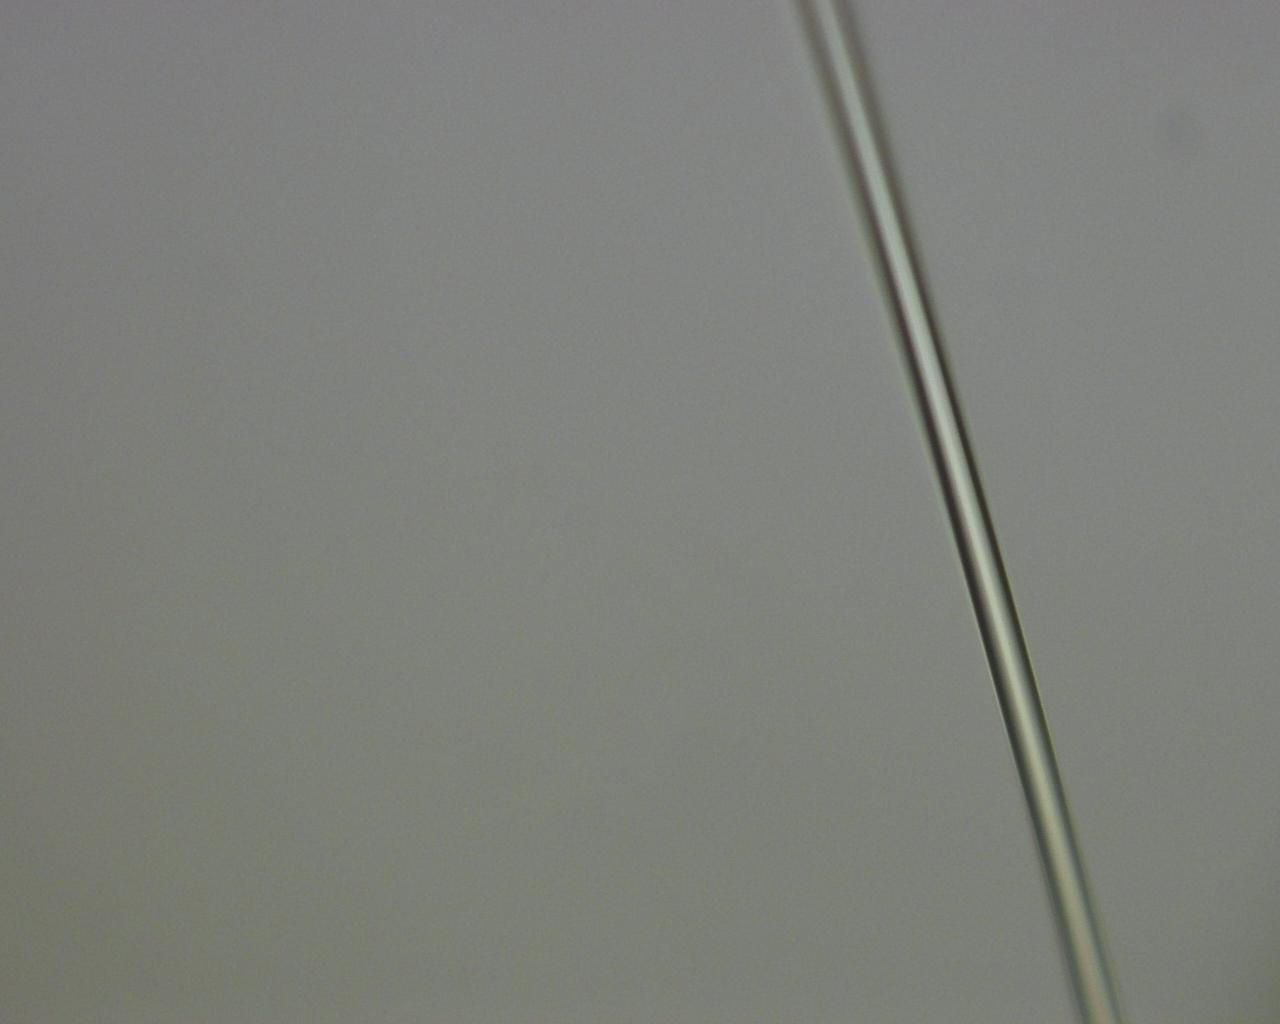fiber: (711, 0, 805, 1024)
